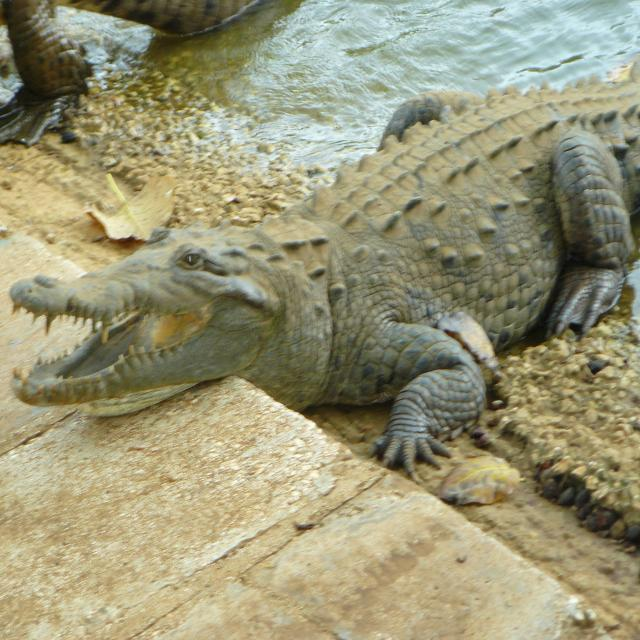crocodile: (3, 54, 640, 472)
